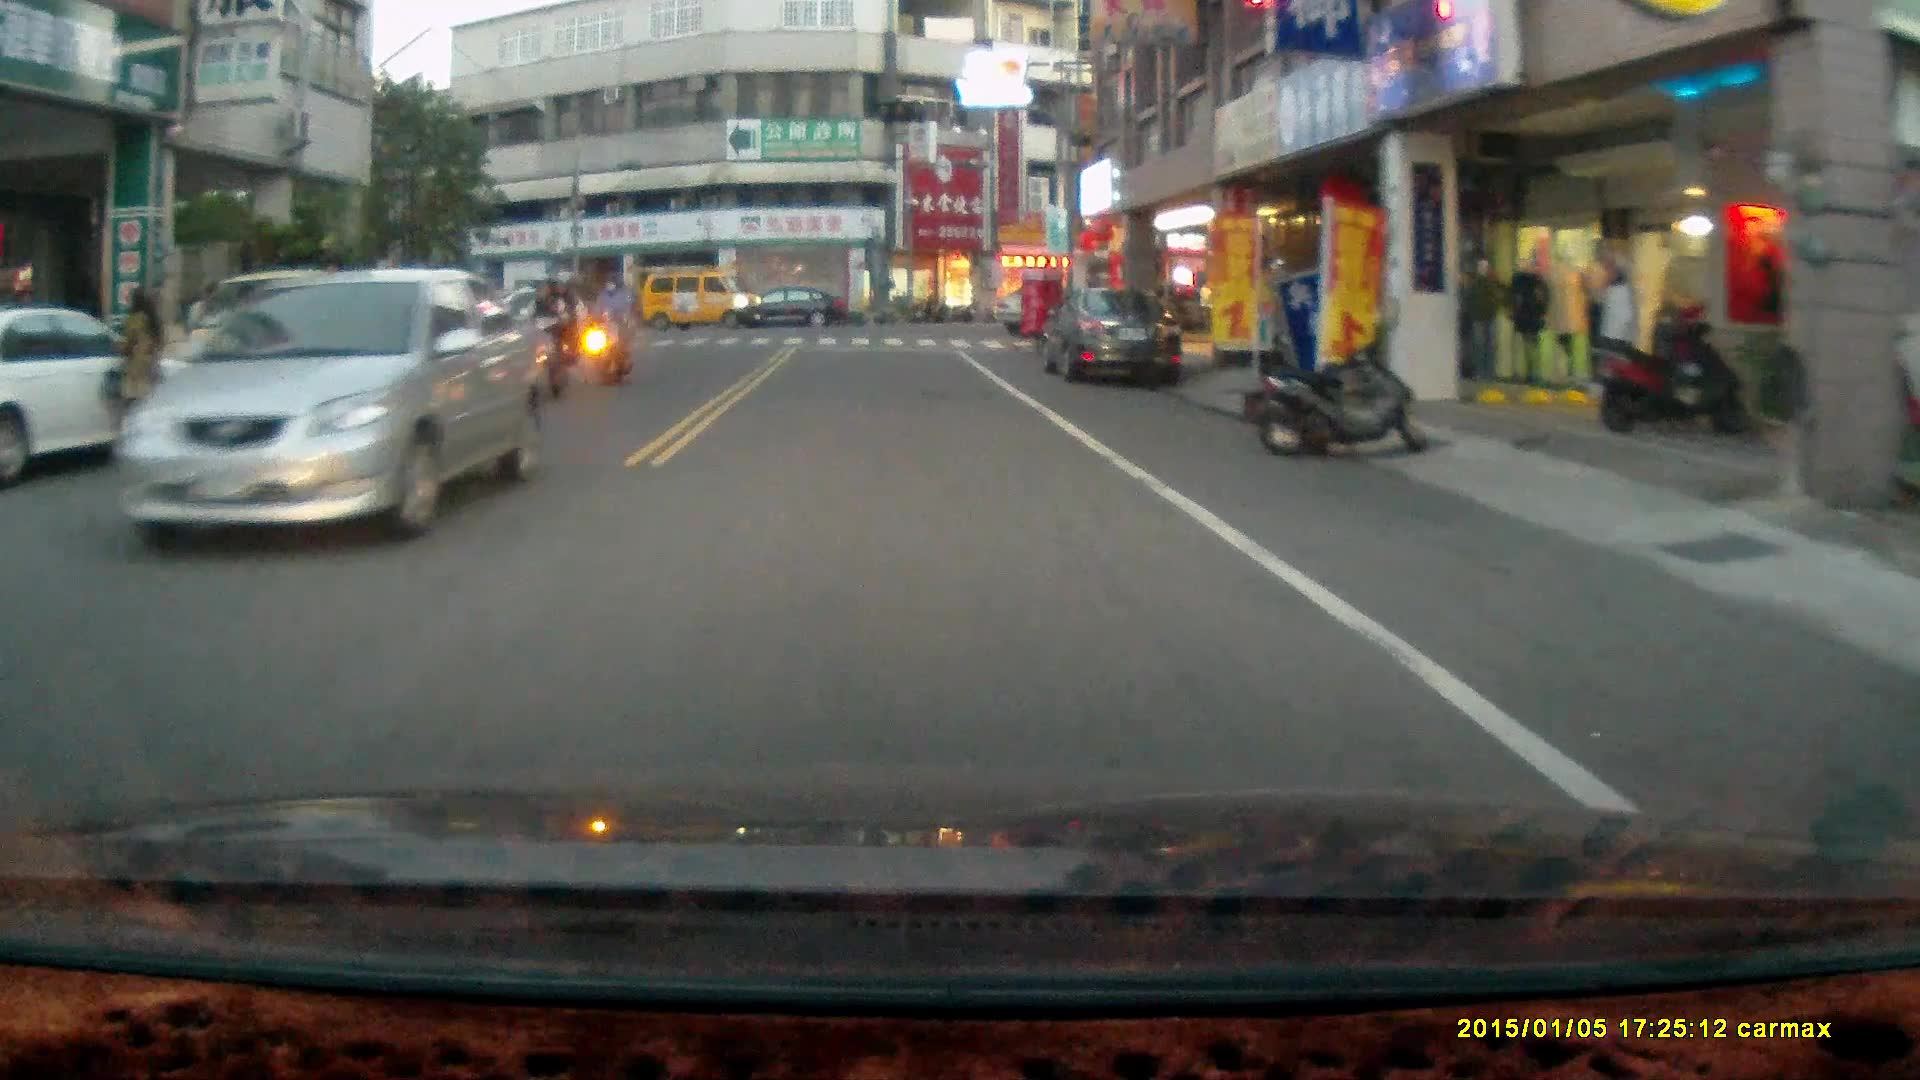pedestrian: (102, 284, 170, 450)
rider: (518, 269, 581, 408), (588, 272, 634, 390)
vehicle: (186, 272, 532, 574), (1, 306, 239, 490), (1041, 284, 1188, 388), (636, 266, 764, 338), (732, 288, 851, 333)
